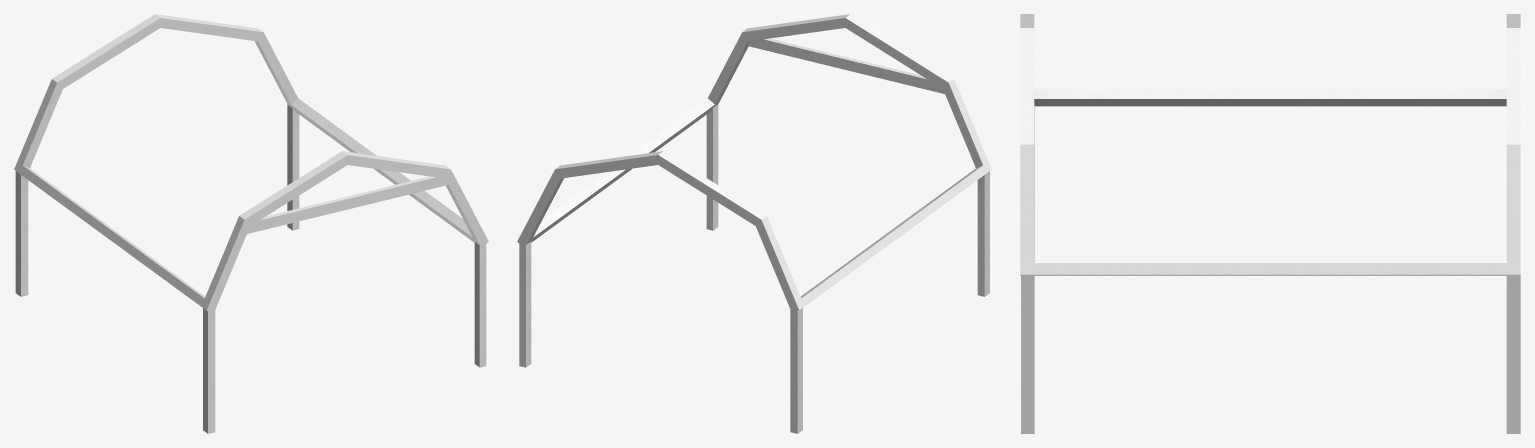
Rendered from Barn_10X12_Trim.glb.
3 views of the same model, side by side, from view 1: azimuth 30°, elevation 25°; view 2: azimuth 150°, elevation 25°; view 3: azimuth 270°, elevation 25° (orthographic). The views are drawn at different scales.
Parts seen in each view (by area): view 1: Barn_10x12_Trim; view 2: Barn_10x12_Trim; view 3: Barn_10x12_Trim.
Part boxes in pixels (x1,y1,x2,y2): Barn_10x12_Trim: (14,14,488,433); Barn_10x12_Trim: (517,14,991,433); Barn_10x12_Trim: (1020,14,1520,433).
Size of the model in its own units: 3.14 by 2.6 by 3.71.
1 material, 1 textured.
